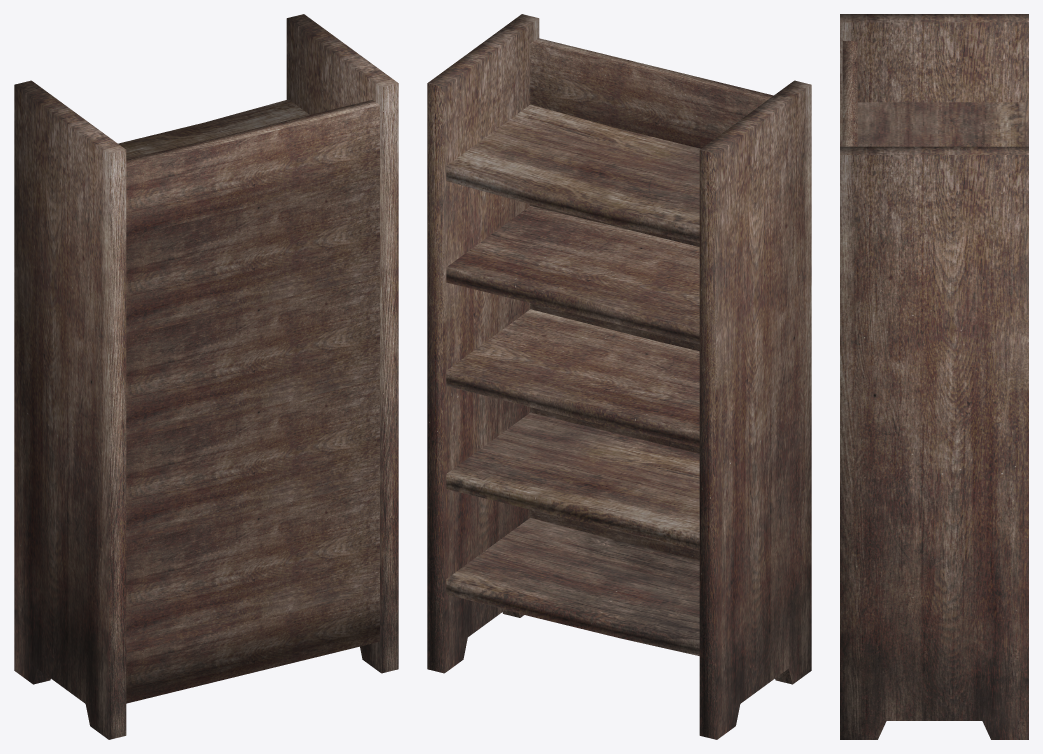
Rendered from bookcase.fbx.
3 renders of one model, left to right at view 1: azimuth 30°, elevation 25°; view 2: azimuth 150°, elevation 25°; view 3: azimuth 270°, elevation 25°, orthographic.
Visible parts, largest first — view 1: bookcase; view 2: bookcase; view 3: bookcase.
Boxes of the visible parts, x1,y1,x2,y2 form: bookcase: (14, 14, 398, 739); bookcase: (427, 14, 811, 739); bookcase: (840, 14, 1028, 739).
Size of the model in its own units: 6.82 by 13.18 by 3.86.
